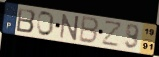9: (123, 23, 139, 51)
B: (78, 15, 101, 46), (15, 7, 37, 34)
N: (59, 13, 81, 42)
O: (36, 10, 56, 38)
Z: (101, 20, 124, 48)
